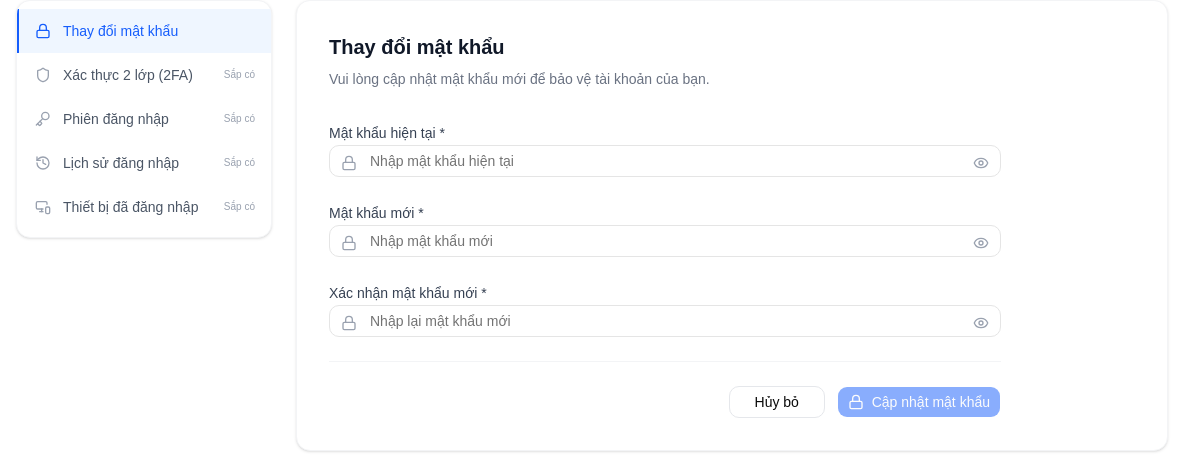
Test: AccountSecurityPage › shows two-factor as unavailable rather than faking it
The image size is (1185, 469).
Click the button "Xác thực 2 lớp (2FA) Sắp có" at coordinates (144, 75), box top-left (17, 53), bottom-right (271, 97)
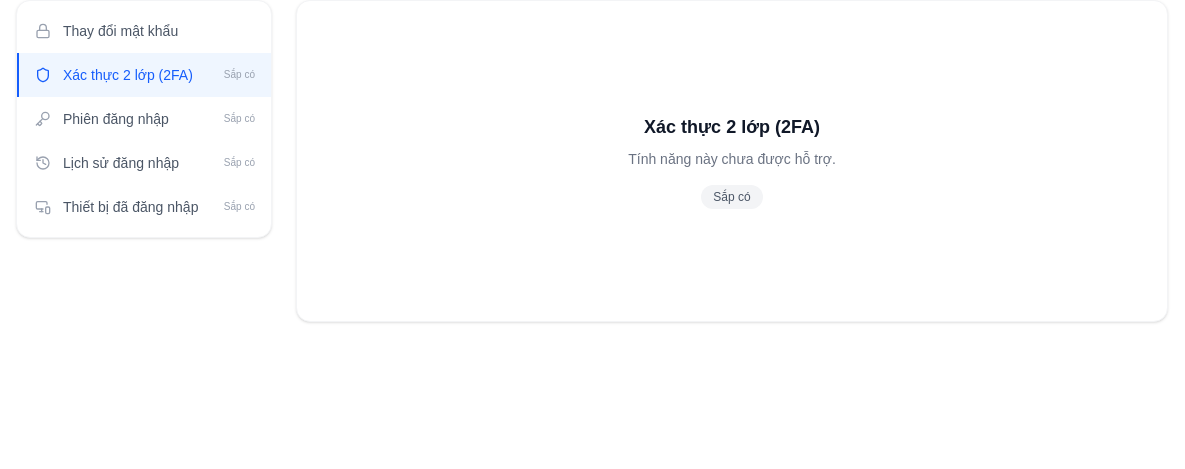
Now the text "Tính năng này chưa được hỗ trợ." is shown, box top-left (628, 149), bottom-right (836, 169)
